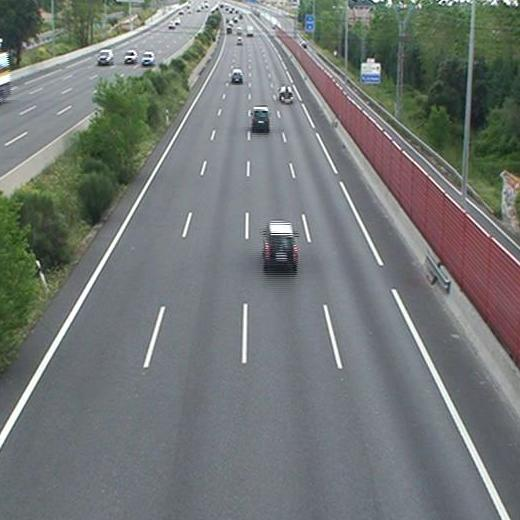car: (264, 223, 298, 266), (253, 108, 269, 128), (279, 86, 292, 101), (231, 69, 242, 82)
